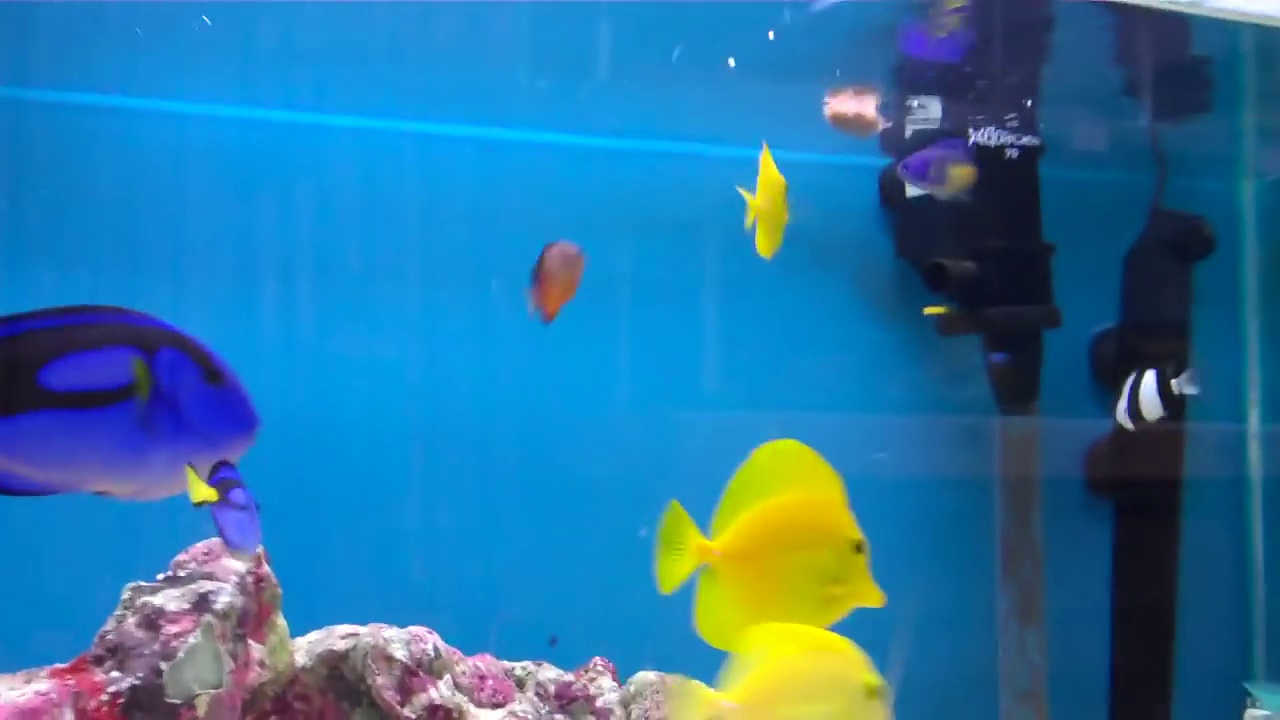blue tang surgeonfish: (0, 294, 288, 504), (175, 454, 276, 561)
saddle butterfly fish: (652, 421, 900, 658), (720, 129, 805, 268)
